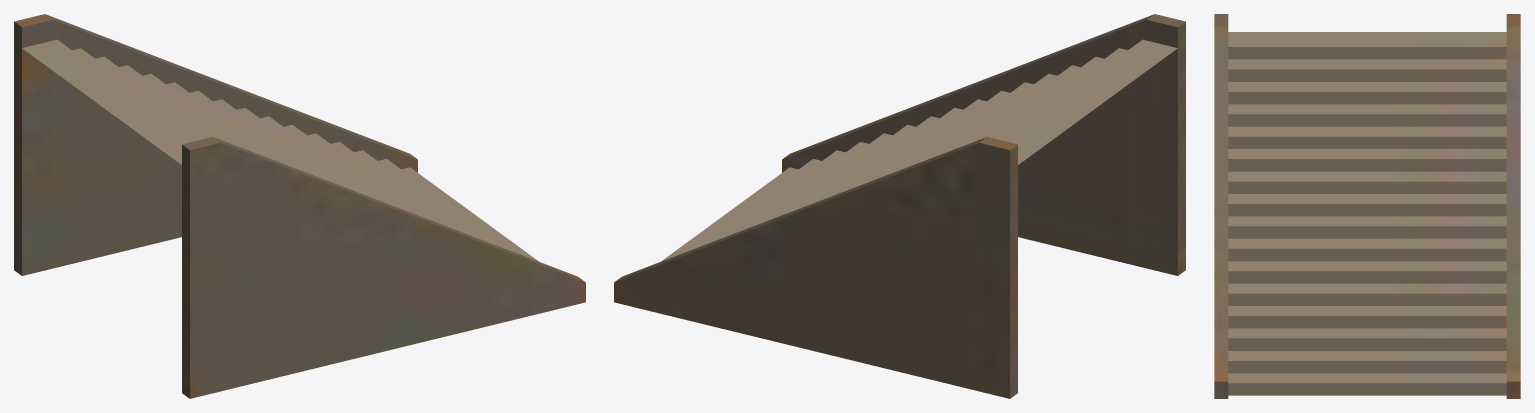
The model's file is mega-pack-plane-008.glb.
The picture shows the model from 3 angles, left to right: view 1: azimuth 30°, elevation 25°; view 2: azimuth 150°, elevation 25°; view 3: azimuth 270°, elevation 25°; orthographic projection. The views are drawn at different scales.
Parts seen in each view (by area): view 1: Plane.008; view 2: Plane.008; view 3: Plane.008.
Part boxes in pixels (x1,y1,x2,y2): Plane.008: (14, 14, 585, 398); Plane.008: (614, 14, 1185, 398); Plane.008: (1214, 14, 1520, 398).
Bounding box in the file's own units: 3.79 × 2.28 × 2.92.
1 material, 1 textured.
